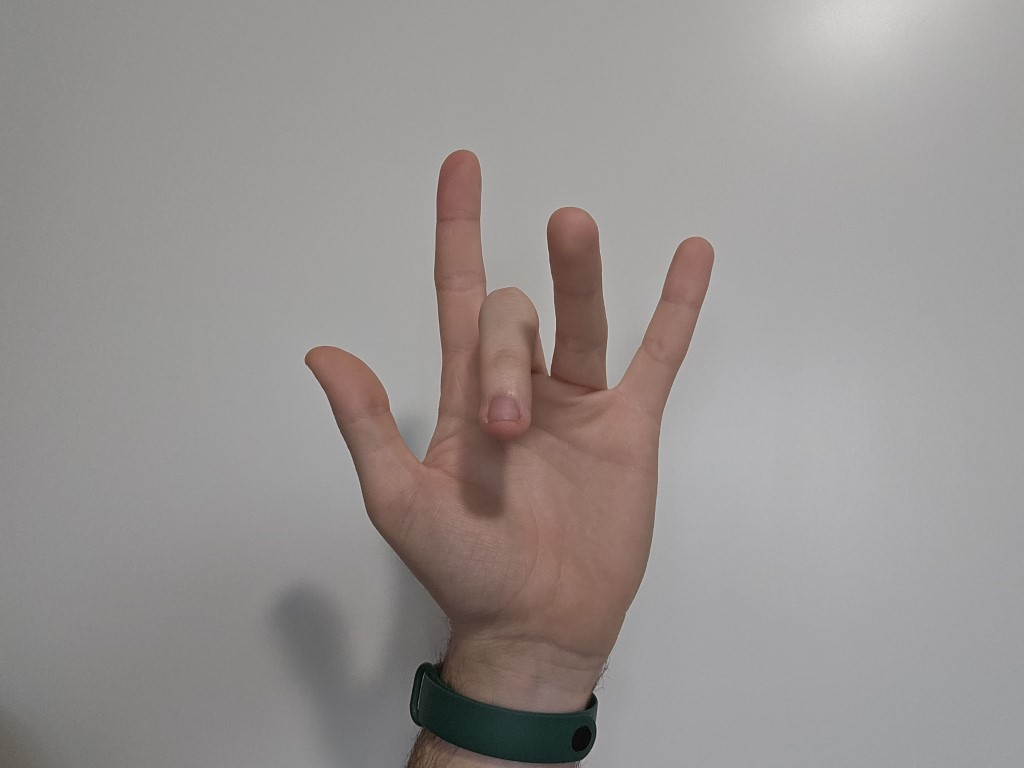reset: (294, 94, 746, 686)
